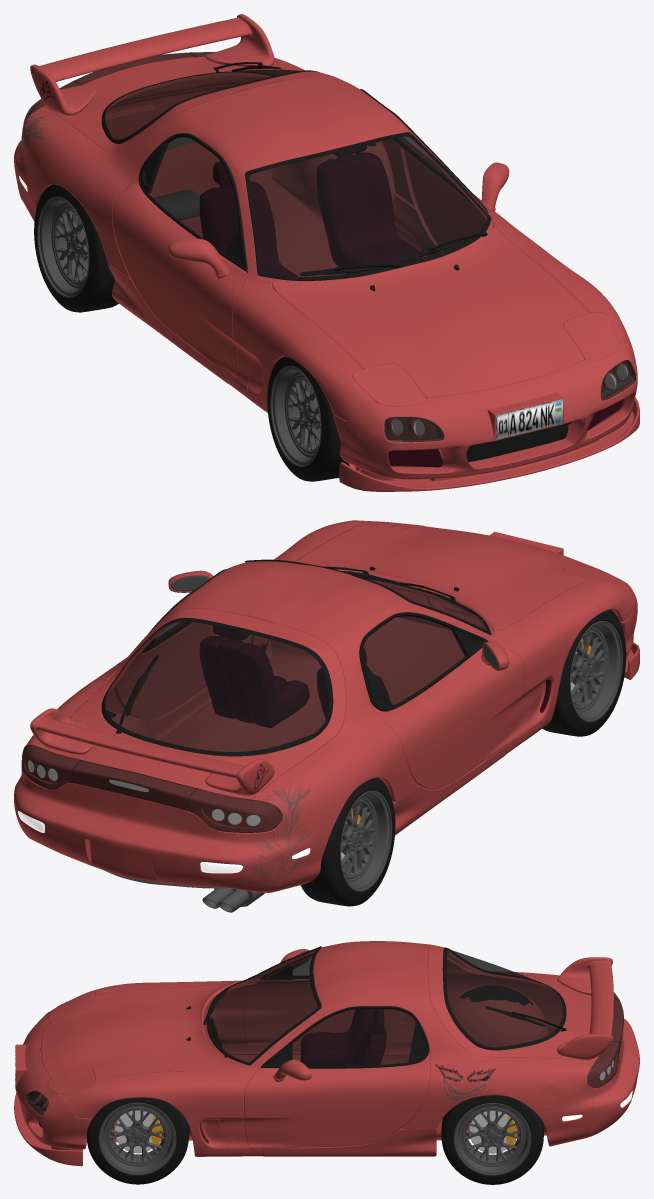
Rendered from mazda-rx-7-fd3s.glb.
3 views of the same model, one above another, from view 1: azimuth 30°, elevation 25°; view 2: azimuth 150°, elevation 25°; view 3: azimuth 270°, elevation 25° (orthographic). The views are drawn at different scales.
Parts seen in each view (by area): view 1: Plane.043, rear right wheel, front right wheel, Plane.003, Plane.001; view 2: Plane.043, rear right wheel, front right wheel, Plane.003; view 3: Plane.043, rear left wheel, front left wheel, Plane.003, rear right wheel.
Boxes of the visible parts, <box> form: Plane.043: <box>14,14,639,491</box>; rear right wheel: <box>34,184,118,312</box>; front right wheel: <box>267,356,349,481</box>; Plane.003: <box>352,312,619,406</box>; Plane.001: <box>496,399,563,439</box>; Plane.043: <box>14,520,639,912</box>; rear right wheel: <box>300,777,395,906</box>; front right wheel: <box>542,609,626,736</box>; Plane.003: <box>352,520,619,582</box>; Plane.043: <box>14,941,639,1166</box>; rear left wheel: <box>441,1095,543,1184</box>; front left wheel: <box>86,1097,189,1184</box>; Plane.003: <box>47,991,95,1093</box>; rear right wheel: <box>460,986,533,1005</box>.
Bounding box in the file's own units: 5.21 × 3.25 × 11.01.
8 materials, 3 textured.
